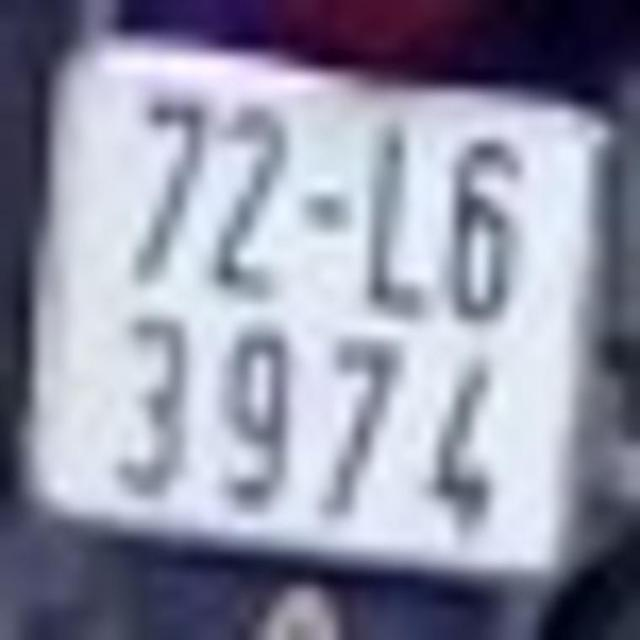2: (214, 100, 290, 299)
3: (114, 310, 190, 500)
4: (429, 348, 503, 542)
6: (447, 132, 526, 324)
7: (314, 331, 405, 526), (127, 96, 204, 290)
9: (218, 322, 292, 512)
L: (361, 115, 431, 320)
